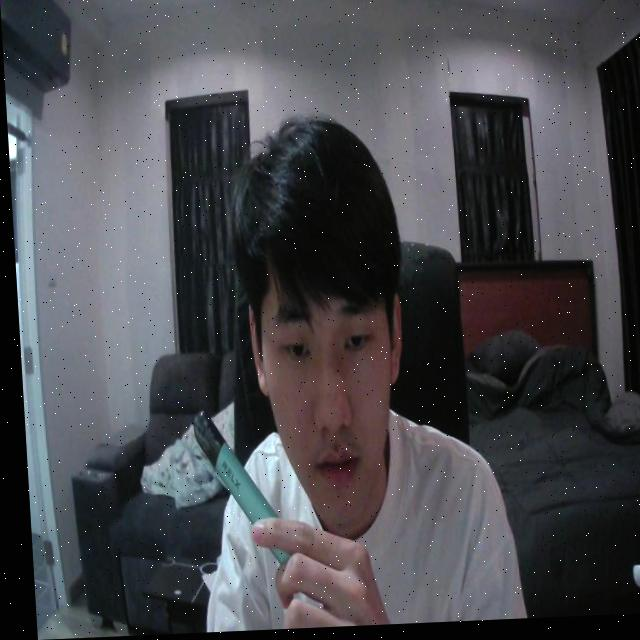vape: (184, 407, 284, 571)
